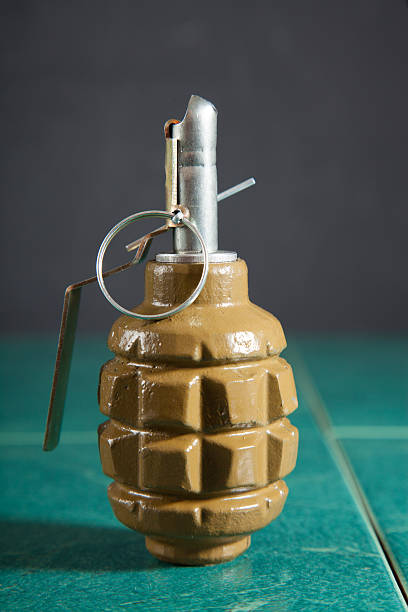e1: (43, 99, 301, 563)
